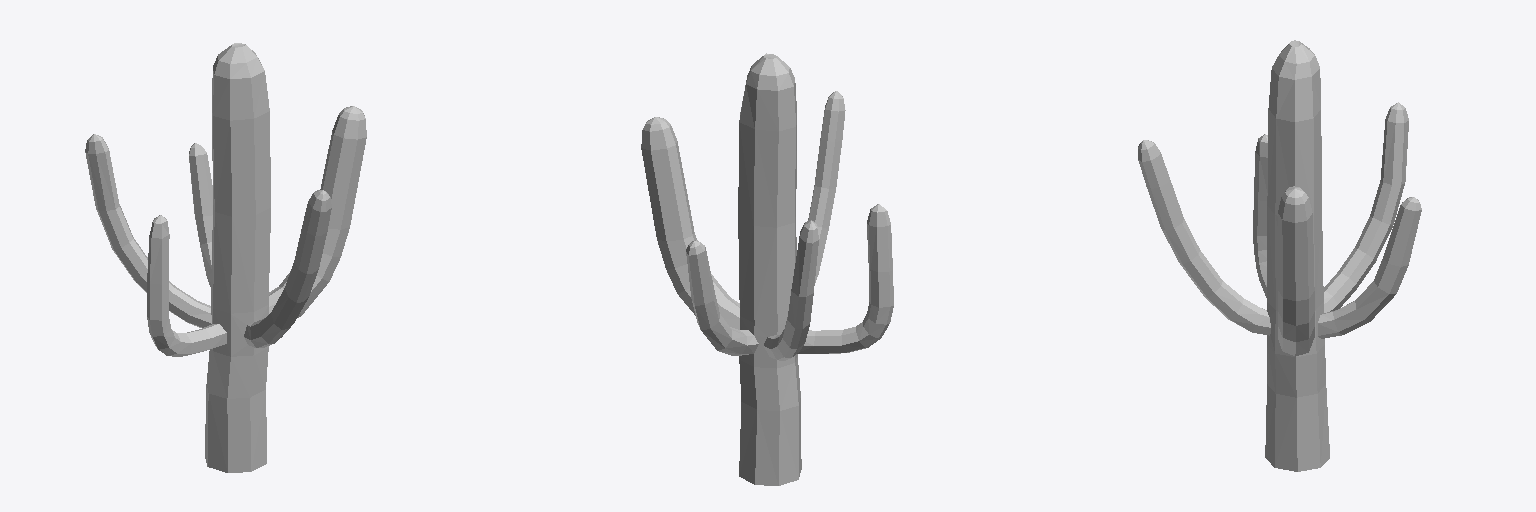
Rendered from cactus6.obj.
3 views of the same model, side by side, from view 1: azimuth 30°, elevation 25°; view 2: azimuth 150°, elevation 25°; view 3: azimuth 270°, elevation 25° (orthographic).
Visible parts, largest first — view 1: cactus_6_Cylinder.008; view 2: cactus_6_Cylinder.008; view 3: cactus_6_Cylinder.008.
Boxes of the visible parts, box(x1,y1,x2,y2) form: cactus_6_Cylinder.008: box(85, 43, 366, 472); cactus_6_Cylinder.008: box(641, 53, 893, 485); cactus_6_Cylinder.008: box(1138, 40, 1421, 471).
Bounding box in the file's own units: 1.9 × 3.25 × 2.01.